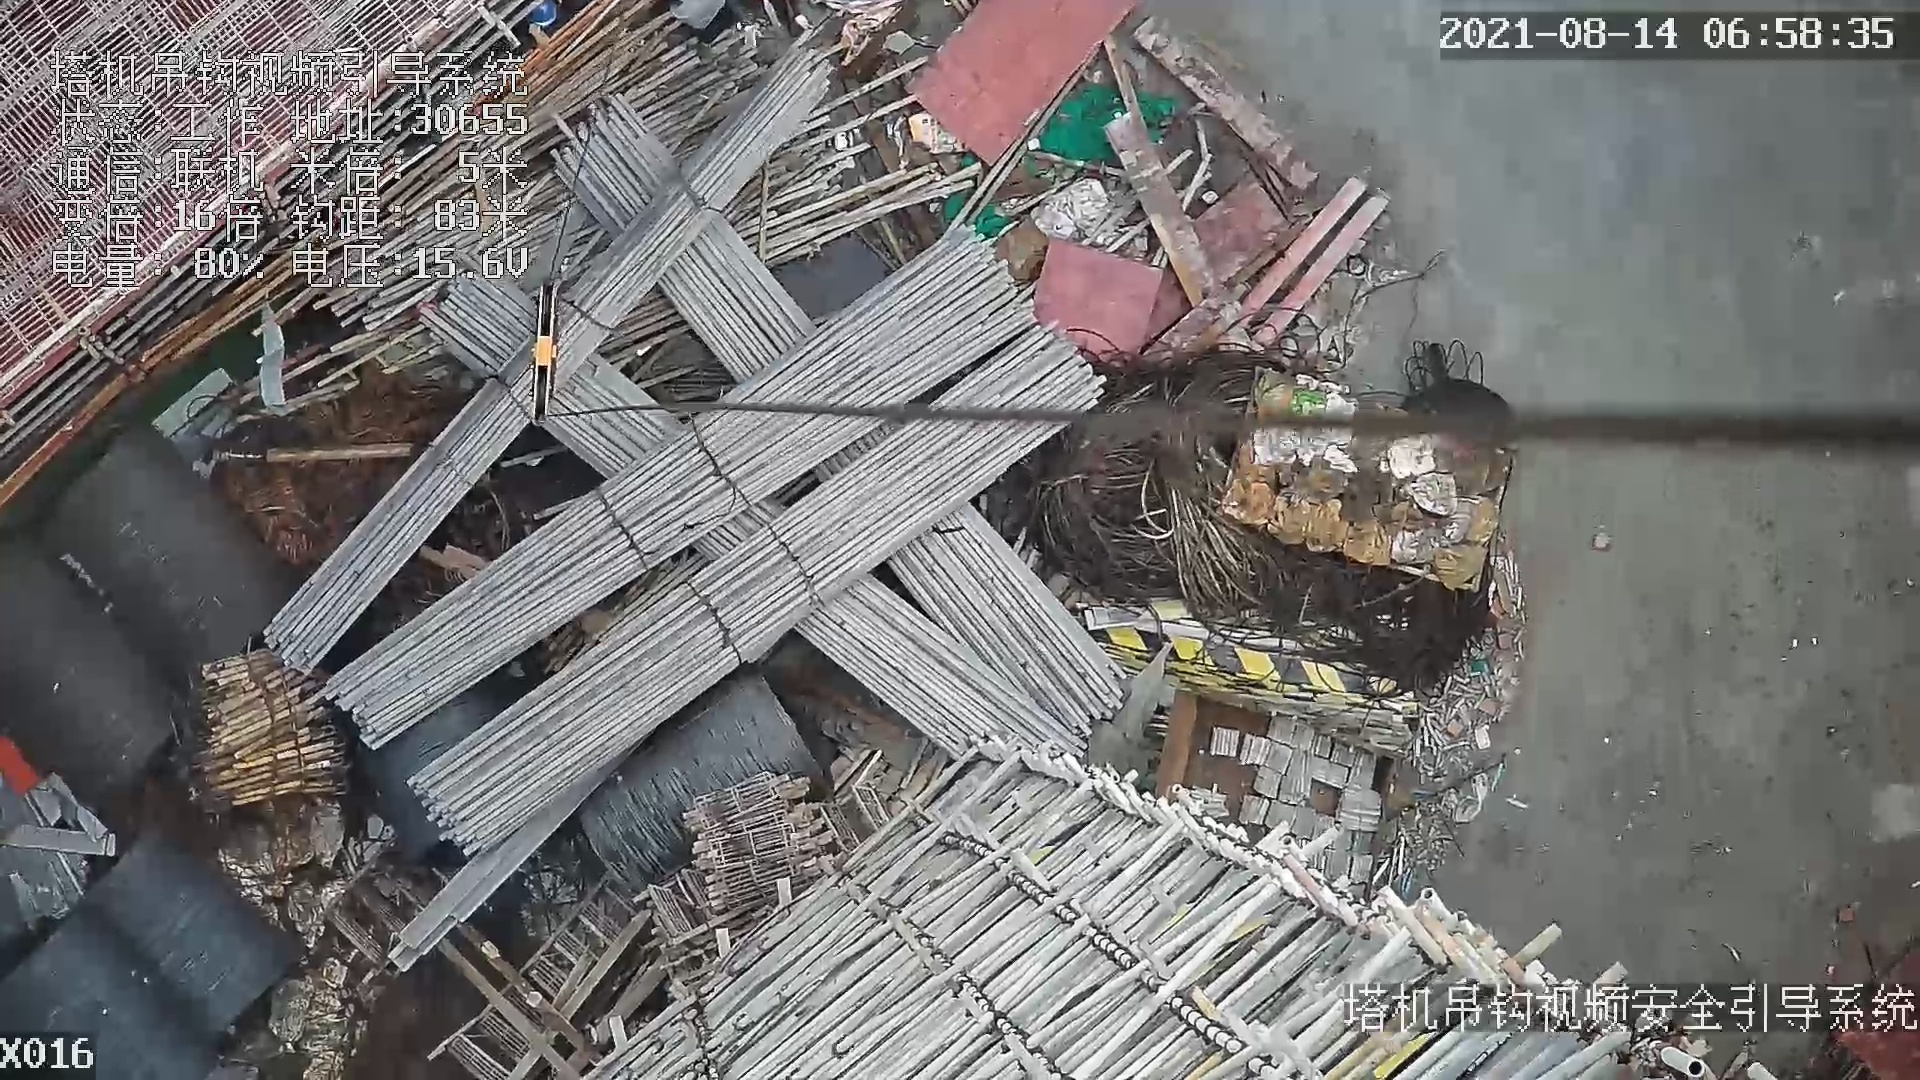hook: (527, 276, 564, 427)
rebar: (411, 328, 1102, 860), (328, 235, 1033, 752), (258, 46, 836, 673), (884, 498, 1127, 733), (796, 572, 1091, 758)
scaffold: (196, 646, 344, 810)
